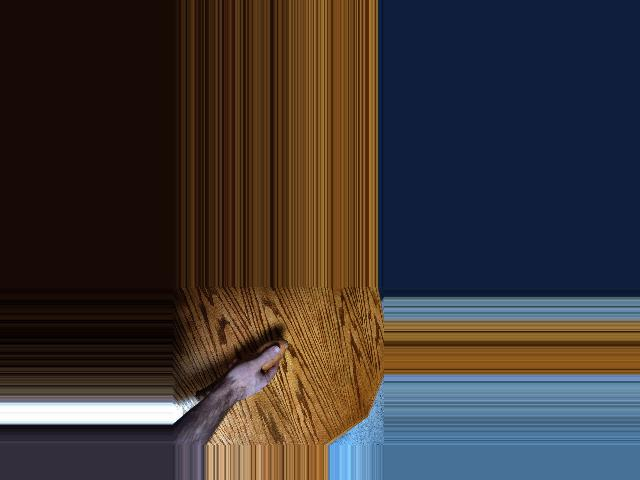sweet_potato: (192, 339, 289, 402)
